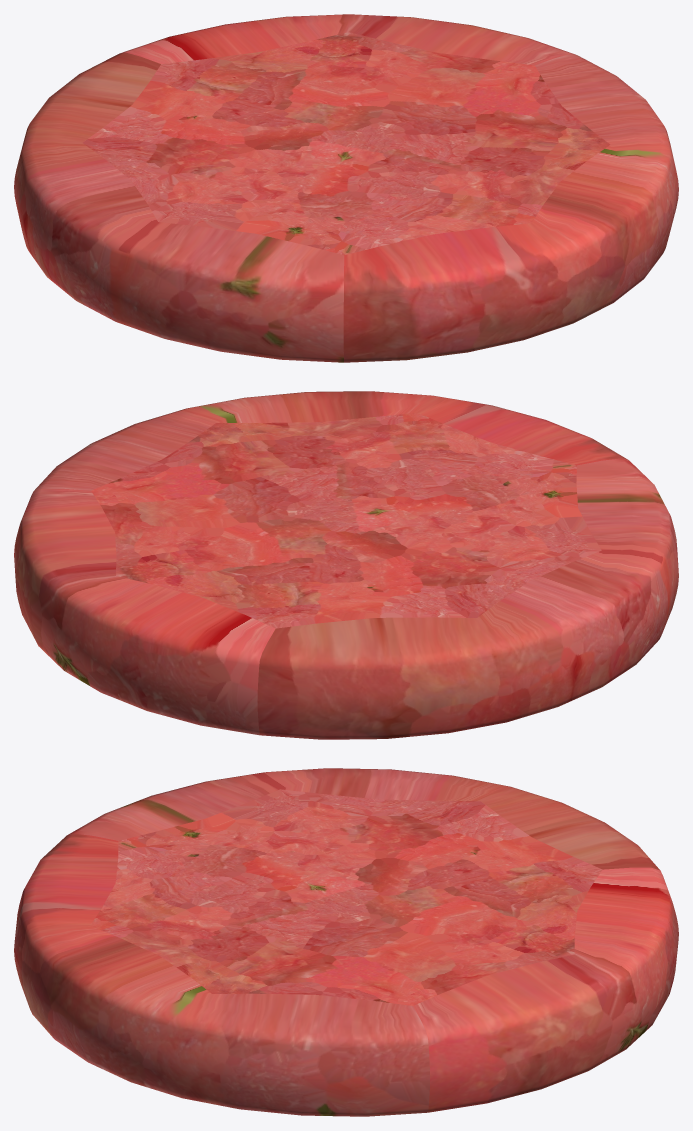
File: raw-meat-pie.glb
3 renders of one model, top to bottom at view 1: azimuth 30°, elevation 25°; view 2: azimuth 150°, elevation 25°; view 3: azimuth 270°, elevation 25°, orthographic.
Parts seen in each view (by area): view 1: meat.001; view 2: meat.001; view 3: meat.001.
Part boxes in pixels (<box>): meat.001: <box>14,14,678,362</box>; meat.001: <box>14,391,678,739</box>; meat.001: <box>14,768,678,1116</box>.
Bounding box in the file's own units: 0.8902 × 0.1392 × 0.8902.
Materials: 1 (1 with a texture image).
